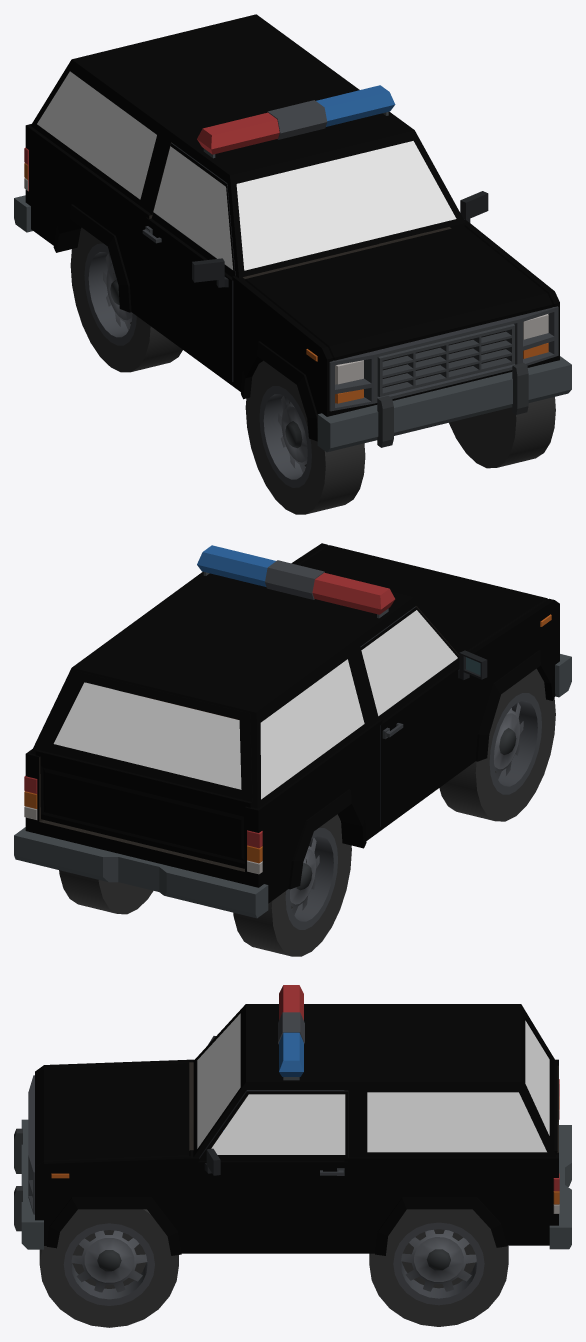
File: Car.fbx
3 renders of one model, top to bottom at view 1: azimuth 30°, elevation 25°; view 2: azimuth 150°, elevation 25°; view 3: azimuth 270°, elevation 25°, orthographic. The views are drawn at different scales.
Parts seen in each view (by area): view 1: Cube.066, Cube.071, Cube.070, Circle.073, Circle.071, Cube.012, Cube.072, Circle.072, Torus.002, Cube.079; view 2: Cube.066, Cube.080, Cube.081, Cube.070, Circle.073, Circle.071, Cube.071, Cube.012, Cube.072, Circle.074; view 3: Cube.066, Cube.079, Cube.071, Circle.072, Circle.074, Cube.078, Cube.012, Cube.081, Cube.080, Torus.002.
Boxes of the visible parts, left/top/right/bottom form: Cube.066: left=14, top=14, right=571, bottom=452; Cube.071: left=37, top=71, right=456, bottom=270; Cube.070: left=142, top=143, right=235, bottom=381; Circle.073: left=245, top=360, right=365, bottom=514; Circle.071: left=70, top=227, right=182, bottom=372; Cube.012: left=197, top=85, right=395, bottom=158; Cube.072: left=153, top=146, right=232, bottom=269; Circle.072: left=449, top=397, right=555, bottom=468; Torus.002: left=243, top=227, right=451, bottom=279; Cube.079: left=460, top=191, right=488, bottom=222; Cube.066: left=14, top=543, right=571, bottom=918; Cube.080: left=35, top=671, right=252, bottom=868; Cube.081: left=53, top=682, right=241, bottom=789; Cube.070: left=360, top=606, right=487, bottom=826; Circle.073: left=439, top=668, right=555, bottom=821; Circle.071: left=233, top=814, right=351, bottom=956; Cube.071: left=86, top=659, right=364, bottom=799; Cube.012: left=197, top=545, right=395, bottom=618; Cube.072: left=361, top=610, right=457, bottom=715; Circle.074: left=59, top=870, right=153, bottom=914; Cube.066: left=14, top=1004, right=571, bottom=1255; Cube.079: left=198, top=1090, right=348, bottom=1250; Cube.071: left=197, top=1013, right=546, bottom=1152; Circle.072: left=39, top=1209, right=178, bottom=1327; Circle.074: left=369, top=1209, right=508, bottom=1326; Cube.078: left=211, top=1094, right=345, bottom=1154; Cube.012: left=278, top=985, right=304, bottom=1080; Cube.081: left=525, top=1020, right=549, bottom=1135; Cube.080: left=522, top=1008, right=557, bottom=1154; Torus.002: left=189, top=1062, right=232, bottom=1150.
Size of the model in its own units: 233 by 224 by 440.
